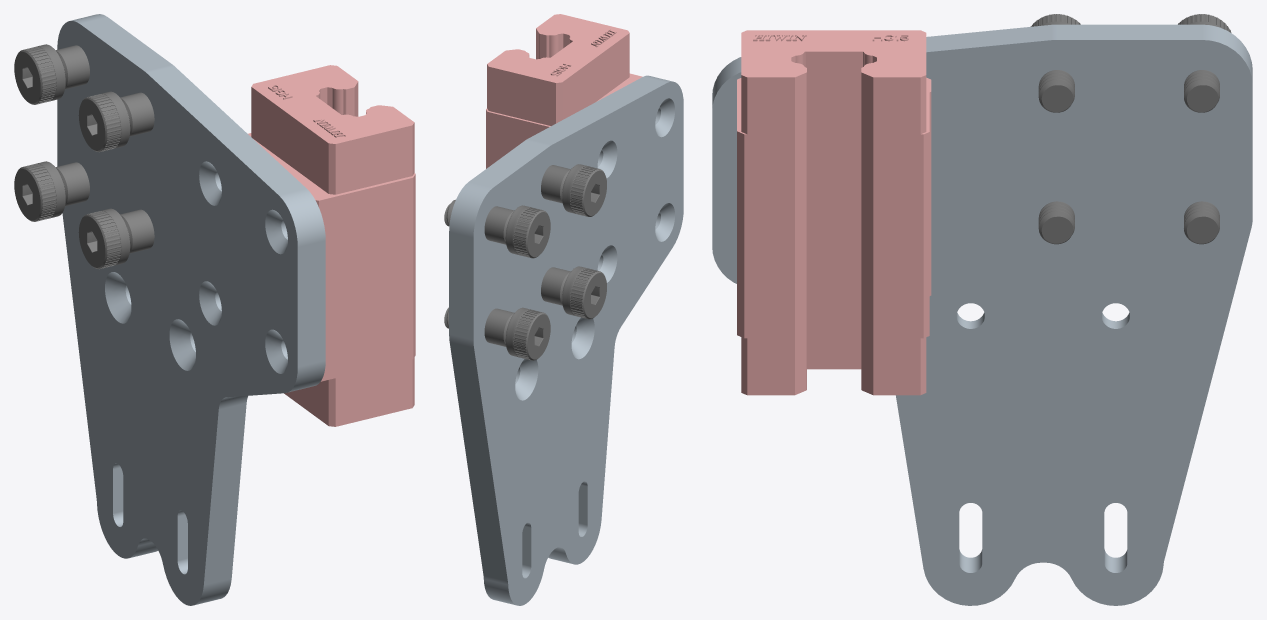
3 renders of one model, left to right at view 1: azimuth 30°, elevation 25°; view 2: azimuth 150°, elevation 25°; view 3: azimuth 270°, elevation 25°, orthographic. The views are drawn at different scales.
Parts seen in each view (by area): view 1: 0.25 in. Thick Plate, Linear Rail Carriage, 91259A574_Alloy Steel Shoulder Screw (×4); view 2: 0.25 in. Thick Plate, Linear Rail Carriage, 91259A574_Alloy Steel Shoulder Screw (×4); view 3: 0.25 in. Thick Plate, Linear Rail Carriage, 91259A574_Alloy Steel Shoulder Screw (×4).
Boxes of the visible parts, <box> form: 0.25 in. Thick Plate: <box>57,14,325,605</box>; Linear Rail Carriage: <box>248,65,415,426</box>; 91259A574_Alloy Steel Shoulder Screw (×4): <box>14,44,154,269</box>; 0.25 in. Thick Plate: <box>449,75,683,605</box>; Linear Rail Carriage: <box>486,14,642,168</box>; 91259A574_Alloy Steel Shoulder Screw (×4): <box>444,164,606,360</box>; 0.25 in. Thick Plate: <box>712,24,1252,605</box>; Linear Rail Carriage: <box>737,30,931,395</box>; 91259A574_Alloy Steel Shoulder Screw (×4): <box>1030,14,1231,244</box>.
Size of the model in its own units: 0.042 by 0.1134 by 0.0946.
